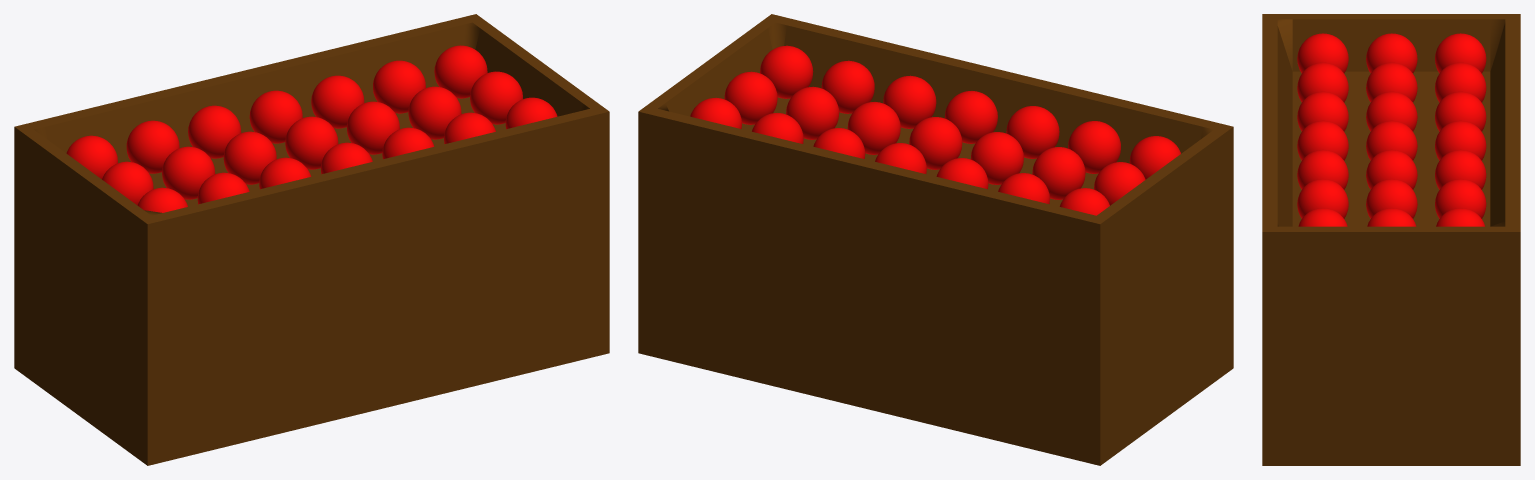
File: FSG_Crate.fbx
The picture shows the model from 3 angles, left to right: view 1: azimuth 30°, elevation 25°; view 2: azimuth 150°, elevation 25°; view 3: azimuth 270°, elevation 25°; orthographic projection. The views are drawn at different scales.
Parts seen in each view (by area): view 1: FSG_Crate, Fire_Suppression_Grenade, Fire_Suppression_Grenade__2_, Fire_Suppression_Grenade__5_, Fire_Suppression_Grenade__6_, Fire_Suppression_Grenade__15_, Fire_Suppression_Grenade__14_, Fire_Suppression_Grenade__3_, Fire_Suppression_Grenade__11_, Fire_Suppression_Grenade__12_, Fire_Suppression_Grenade__17_, Fire_Suppression_Grenade__9_ (+10 smaller); view 2: FSG_Crate, Fire_Suppression_Grenade__5_, Fire_Suppression_Grenade__17_, Fire_Suppression_Grenade__11_, Fire_Suppression_Grenade__13_, Fire_Suppression_Grenade__2_, Fire_Suppression_Grenade__4_, Fire_Suppression_Grenade__7_, Fire_Suppression_Grenade__8_, Fire_Suppression_Grenade__1_, Fire_Suppression_Grenade__10_, Fire_Suppression_Grenade__16_ (+10 smaller); view 3: FSG_Crate, Fire_Suppression_Grenade__20_, Fire_Suppression_Grenade__19_, Fire_Suppression_Grenade__4_, Fire_Suppression_Grenade__16_, Fire_Suppression_Grenade__9_, Fire_Suppression_Grenade__17_, Fire_Suppression_Grenade__7_, Fire_Suppression_Grenade__13_, Fire_Suppression_Grenade__15_, Fire_Suppression_Grenade__10_, Fire_Suppression_Grenade__11_ (+10 smaller).
Boxes of the visible parts, x1,y1,x2,y2 form: FSG_Crate: (14,14,609,465); Fire_Suppression_Grenade: (434,45,487,98); Fire_Suppression_Grenade__2_: (470,71,522,124); Fire_Suppression_Grenade__5_: (408,86,461,139); Fire_Suppression_Grenade__6_: (311,75,364,128); Fire_Suppression_Grenade__15_: (126,120,179,173); Fire_Suppression_Grenade__14_: (223,131,276,184); Fire_Suppression_Grenade__3_: (373,60,425,113); Fire_Suppression_Grenade__11_: (285,116,338,169); Fire_Suppression_Grenade__12_: (188,105,241,158); Fire_Suppression_Grenade__17_: (162,146,215,199); Fire_Suppression_Grenade__9_: (249,90,302,143); FSG_Crate: (638,14,1233,465); Fire_Suppression_Grenade__5_: (786,86,839,139); Fire_Suppression_Grenade__17_: (1032,147,1085,199); Fire_Suppression_Grenade__11_: (909,117,962,169); Fire_Suppression_Grenade__13_: (1006,106,1059,158); Fire_Suppression_Grenade__2_: (724,71,777,124); Fire_Suppression_Grenade__4_: (821,60,874,113); Fire_Suppression_Grenade__7_: (883,75,936,128); Fire_Suppression_Grenade__8_: (847,102,900,154); Fire_Suppression_Grenade__1_: (760,45,813,98); Fire_Suppression_Grenade__10_: (944,91,997,143); Fire_Suppression_Grenade__16_: (1068,121,1120,173); FSG_Crate: (1262,14,1520,465); Fire_Suppression_Grenade__20_: (1366,33,1417,73); Fire_Suppression_Grenade__19_: (1297,33,1348,73); Fire_Suppression_Grenade__4_: (1297,179,1348,218); Fire_Suppression_Grenade__16_: (1297,62,1348,102); Fire_Suppression_Grenade__9_: (1435,120,1486,160); Fire_Suppression_Grenade__17_: (1366,62,1417,102); Fire_Suppression_Grenade__7_: (1297,149,1348,189); Fire_Suppression_Grenade__13_: (1297,91,1348,131); Fire_Suppression_Grenade__15_: (1435,62,1486,102); Fire_Suppression_Grenade__10_: (1297,120,1348,160); Fire_Suppression_Grenade__11_: (1366,120,1417,160).
Size of the model in its own units: 150 by 75 by 75.
